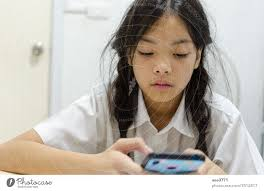playing: (98, 10, 213, 175)
